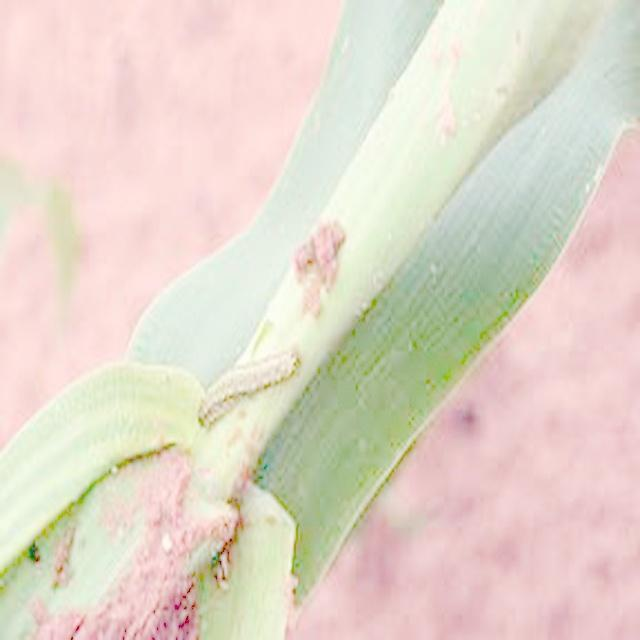Plaga: (193, 345, 300, 428)
